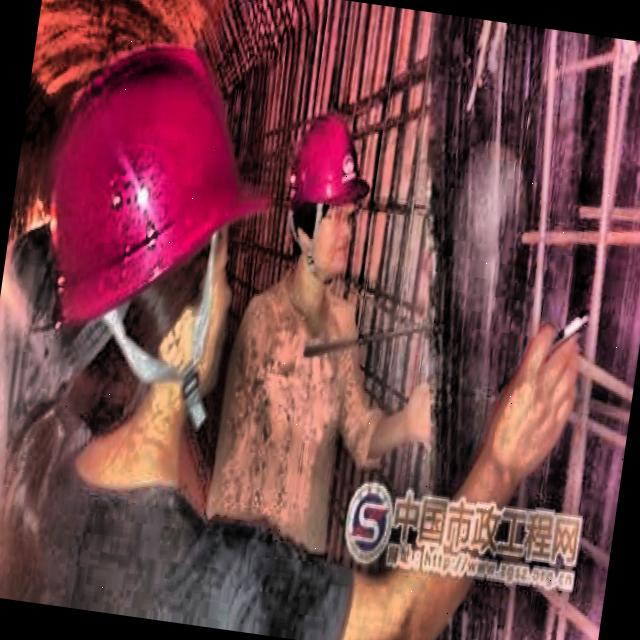helmet: (3, 0, 283, 459), (266, 84, 396, 309)
